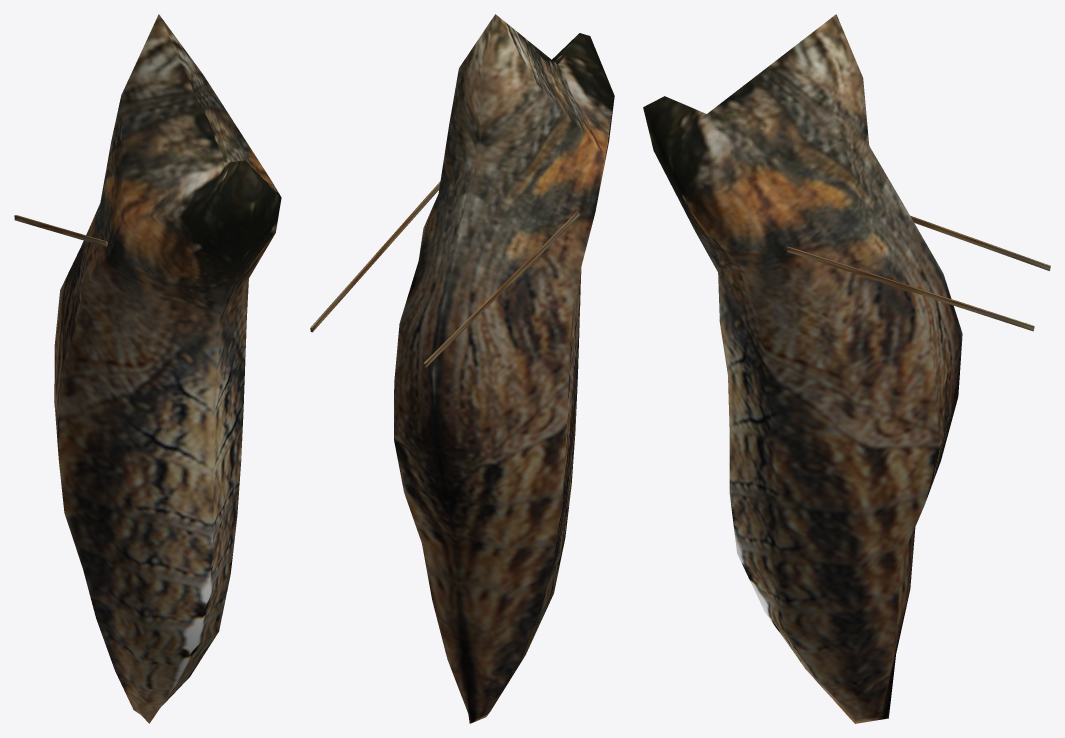
The model's file is Cocoon02.FBX.
The picture shows the model from 3 angles, left to right: view 1: azimuth 30°, elevation 25°; view 2: azimuth 150°, elevation 25°; view 3: azimuth 270°, elevation 25°; orthographic projection. The views are drawn at different scales.
Visible parts, largest first — view 1: Cocoon02; view 2: Cocoon02; view 3: Cocoon02.
Part boxes in pixels (box(x1,y1,x2,y2)): Cocoon02: box(14, 14, 281, 723); Cocoon02: box(310, 14, 614, 723); Cocoon02: box(643, 14, 1050, 723).
Size of the model in its own units: 8.5 by 32.82 by 17.09.
Materials: 1 (1 with a texture image).
